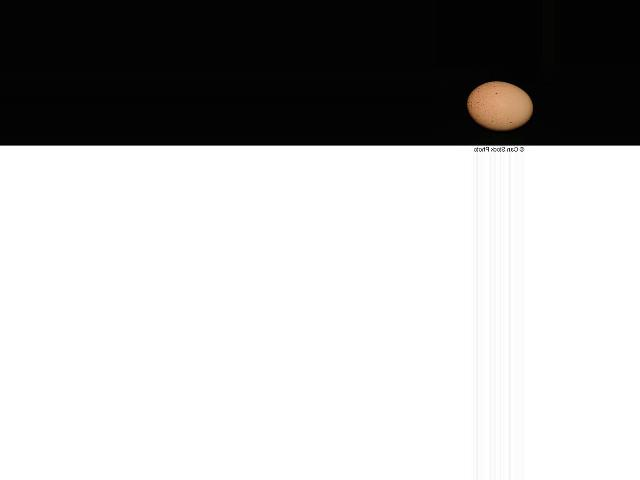egg: (466, 82, 532, 132)
